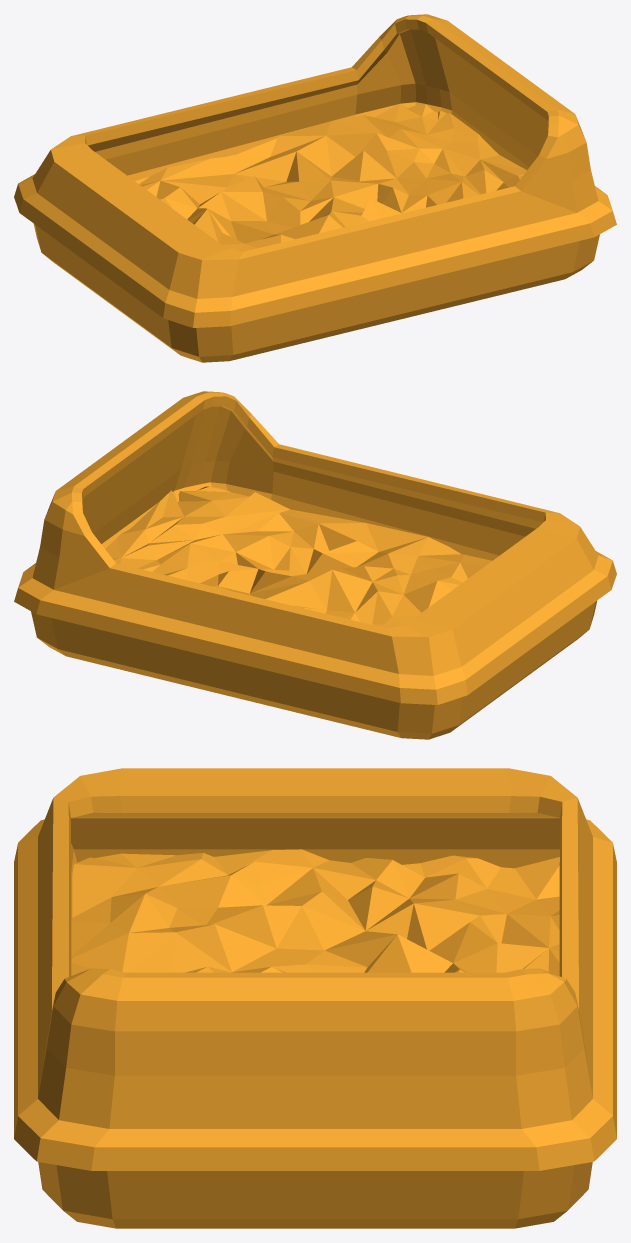
The model's file is SM_Cat_Toilet_Clean.fbx.
3 views of the same model, one above another, from view 1: azimuth 30°, elevation 25°; view 2: azimuth 150°, elevation 25°; view 3: azimuth 270°, elevation 25° (orthographic). The views are drawn at different scales.
Visible parts, largest first — view 1: Cat_Toilet_Clean; view 2: Cat_Toilet_Clean; view 3: Cat_Toilet_Clean.
Boxes of the visible parts, <box> form: Cat_Toilet_Clean: <box>14,14,616,362</box>; Cat_Toilet_Clean: <box>14,391,616,739</box>; Cat_Toilet_Clean: <box>14,768,616,1228</box>.
Bounding box in the file's own units: 0.5965 × 0.1933 × 0.4462.
